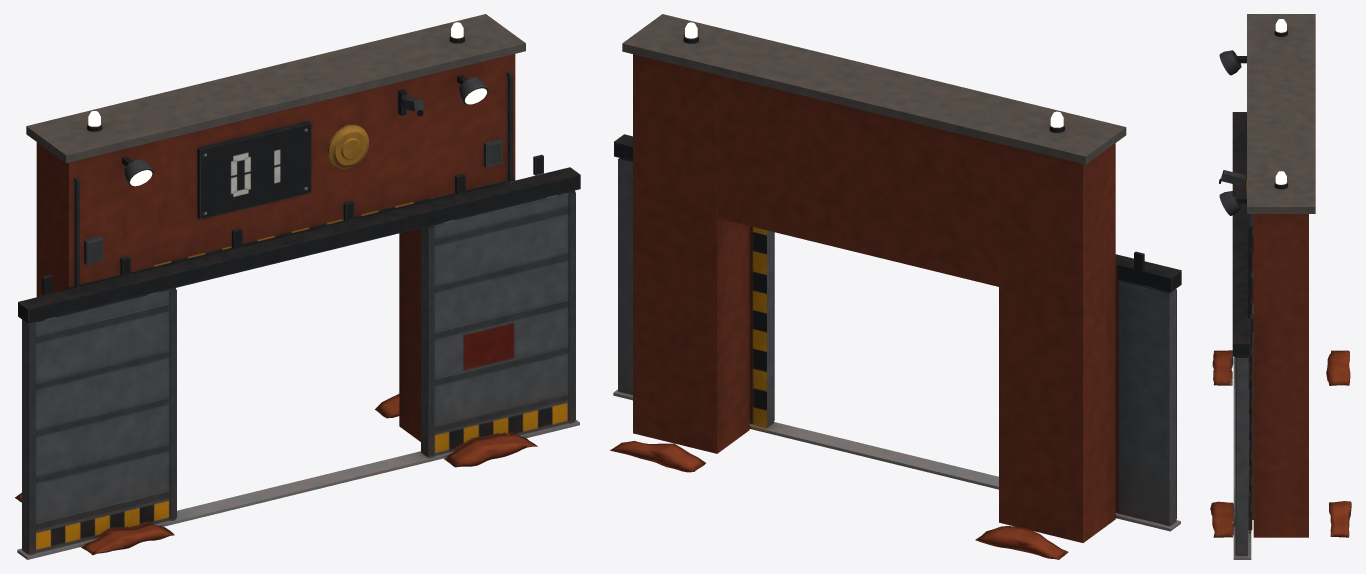
Rendered from south_gate.glb.
3 views of the same model, side by side, from view 1: azimuth 30°, elevation 25°; view 2: azimuth 150°, elevation 25°; view 3: azimuth 270°, elevation 25° (orthographic). The views are drawn at different scales.
Parts seen in each view (by area): view 1: south_gate; view 2: south_gate; view 3: south_gate.
Boxes of the visible parts, x1=… form: south_gate: x1=15, y1=14, x2=580, y2=559; south_gate: x1=610, y1=14, x2=1181, y2=559; south_gate: x1=1210, y1=14, x2=1351, y2=559.
Size of the model in its own units: 9.9 by 7 by 2.55.
Materials: 3 (3 with a texture image).
